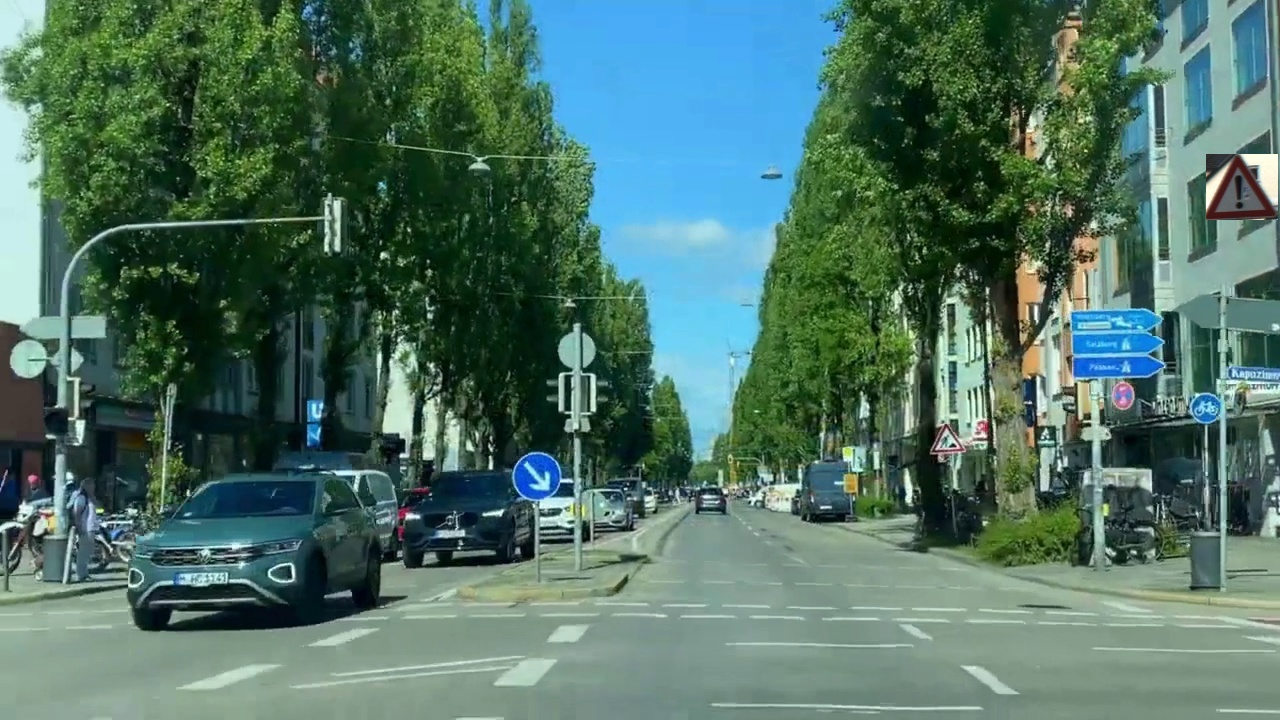Caution: (1206, 154, 1278, 220)
